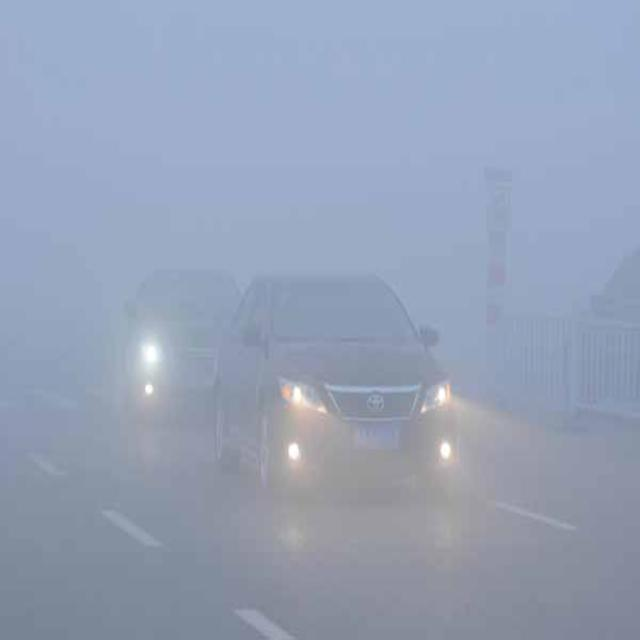car: (211, 269, 457, 508), (117, 264, 243, 422)
